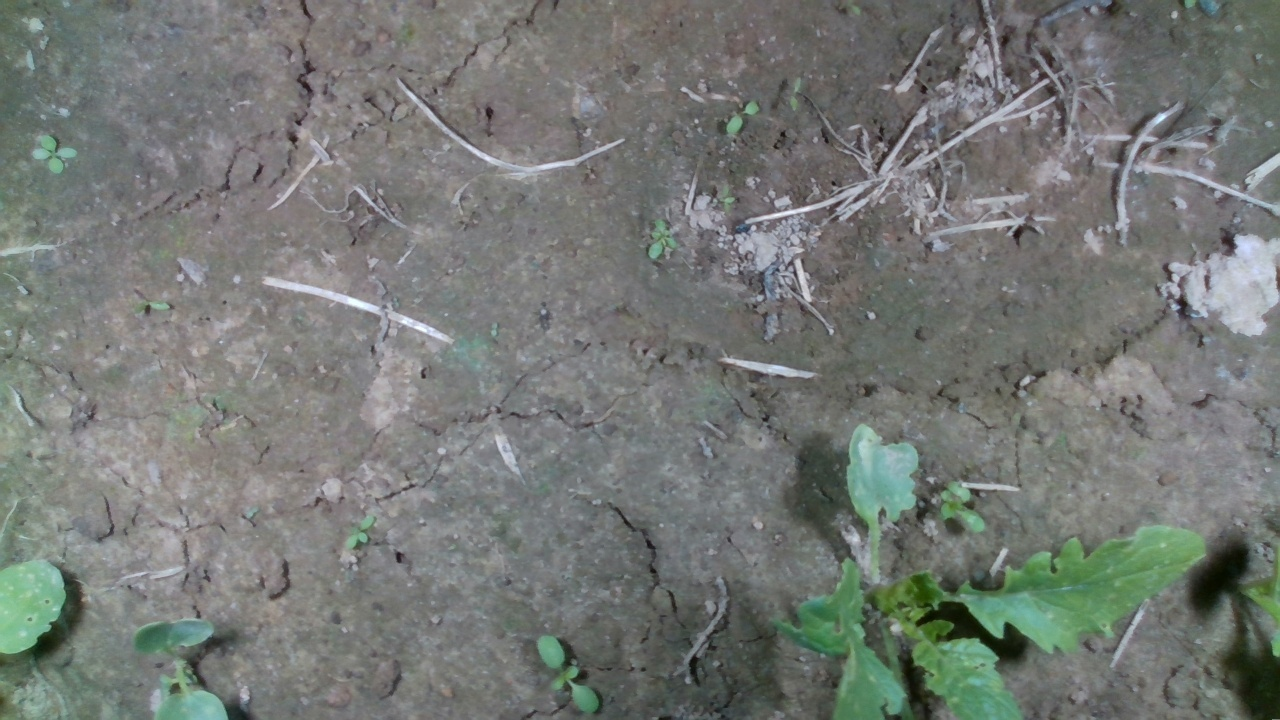weed: (535, 632, 601, 715), (29, 132, 78, 175), (724, 102, 759, 136), (344, 513, 375, 549), (788, 74, 803, 113)
